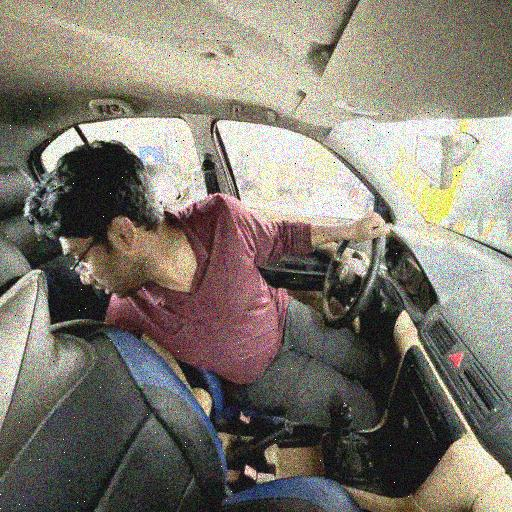Reaching_behind: (24, 142, 388, 396)
